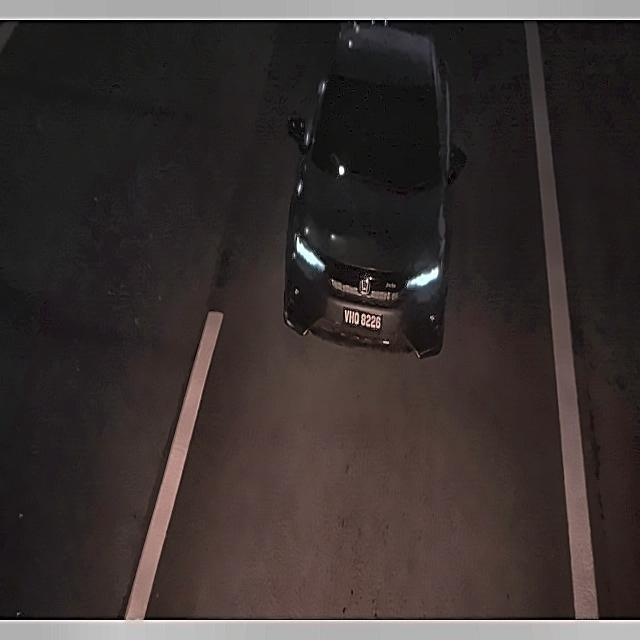car: (341, 302, 385, 338)
